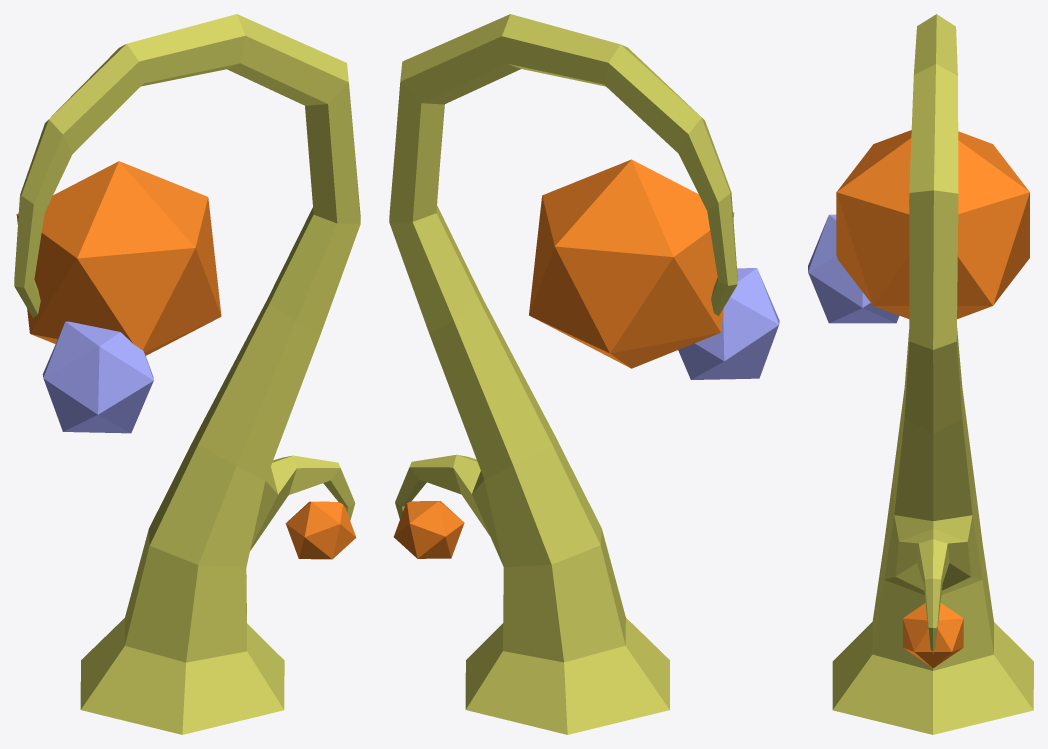
Rendered from st1_grass2.fbx.
The picture shows the model from 3 angles, left to right: view 1: azimuth 30°, elevation 25°; view 2: azimuth 150°, elevation 25°; view 3: azimuth 270°, elevation 25°; orthographic projection.
Visible parts, largest first — view 1: BezierCurve_001; view 2: BezierCurve_001; view 3: BezierCurve_001.
Boxes of the visible parts, x1=… form: BezierCurve_001: x1=14, y1=14, x2=360, y2=734; BezierCurve_001: x1=389, y1=14, x2=779, y2=734; BezierCurve_001: x1=808, y1=14, x2=1033, y2=734.
Size of the model in its own units: 163 by 290 by 91.56.
